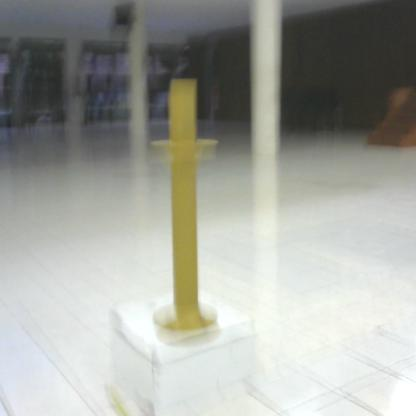pole: (146, 71, 230, 347)
